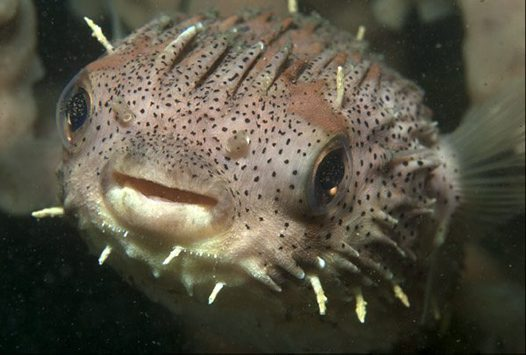Diodon_holocanthus: (36, 7, 491, 347)
